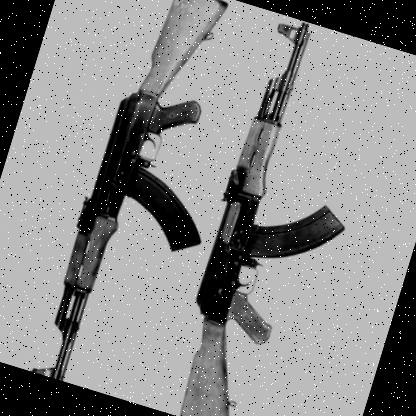rifle: (148, 13, 413, 416), (13, 0, 258, 404)
